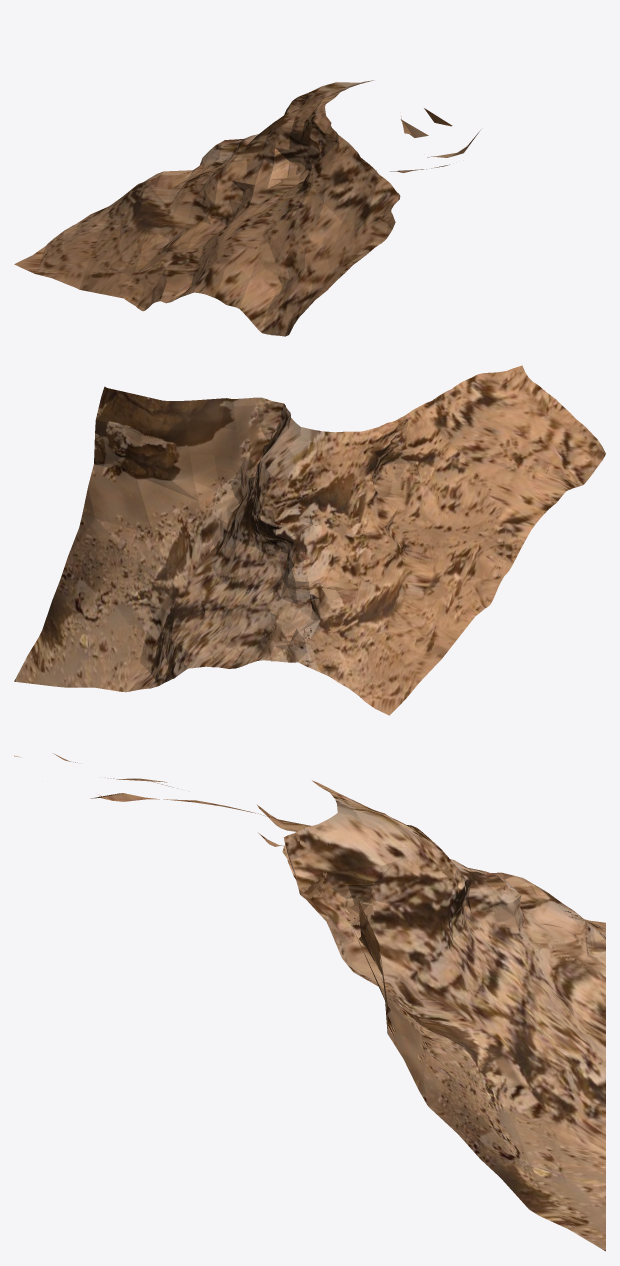
3 renders of one model, top to bottom at view 1: azimuth 30°, elevation 25°; view 2: azimuth 150°, elevation 25°; view 3: azimuth 270°, elevation 25°, orthographic. The views are drawn at different scales.
Size of the model in its own units: 1.04 by 0.6089 by 1.04.
2 materials, 2 textured.
